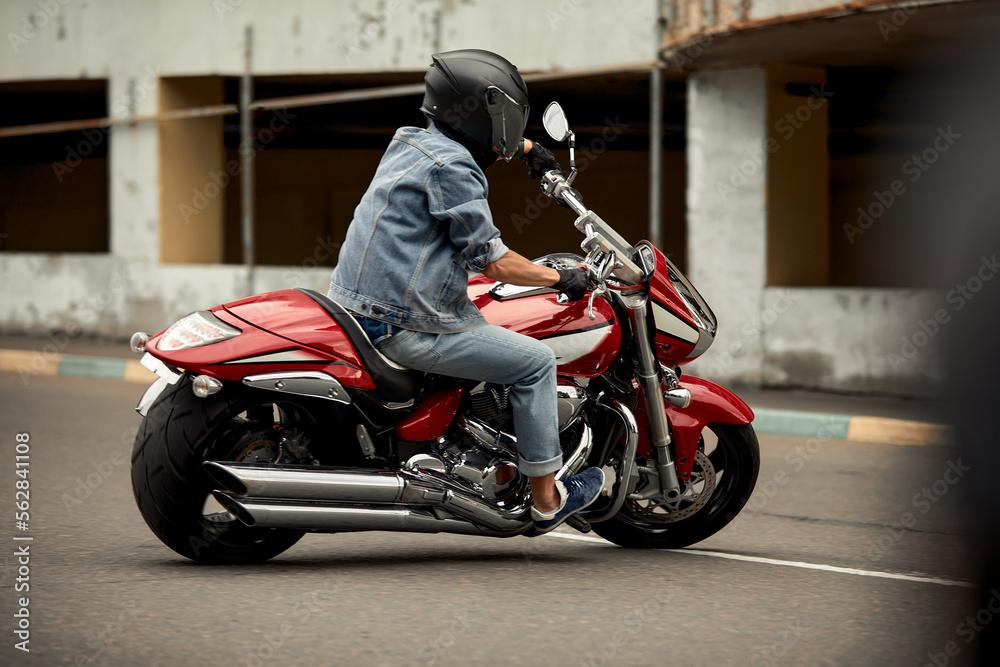helmet: (418, 48, 531, 165)
